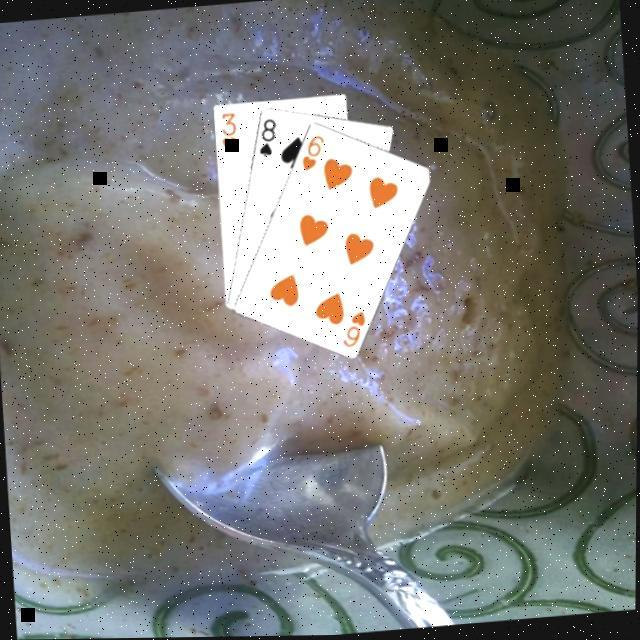3H: (218, 108, 241, 153)
6H: (298, 130, 331, 172), (339, 306, 372, 348)
8S: (254, 112, 282, 158)
